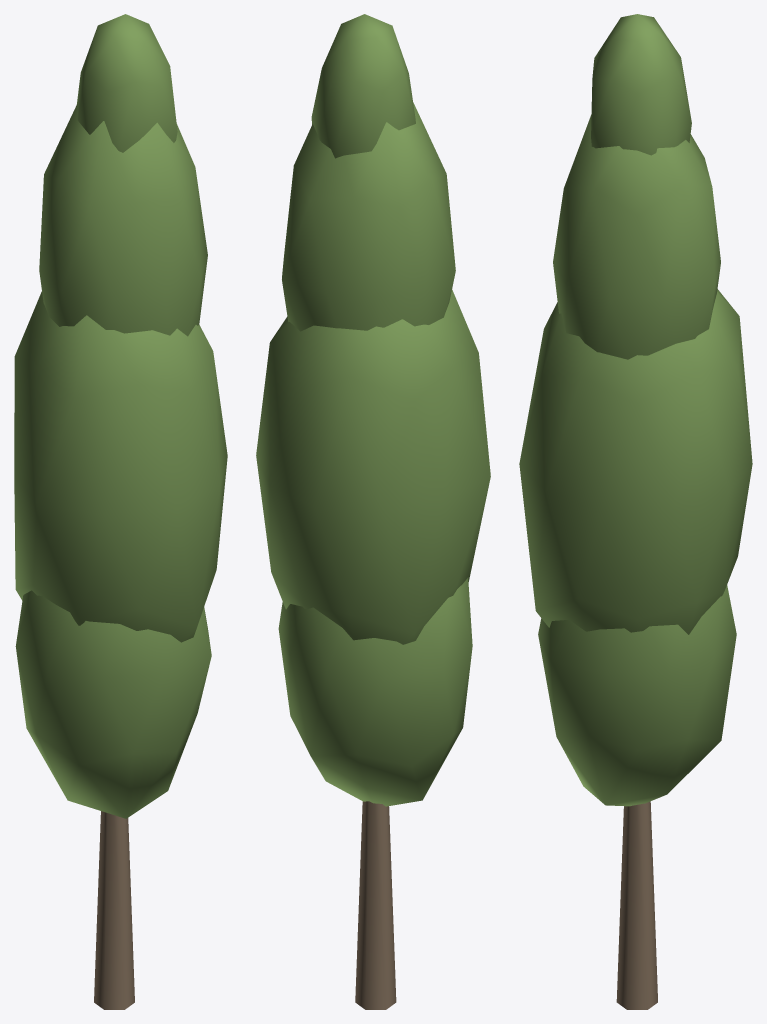
File: tree_poplar.glb
3 views of the same model, side by side, from view 1: azimuth 30°, elevation 25°; view 2: azimuth 150°, elevation 25°; view 3: azimuth 270°, elevation 25° (orthographic).
Visible parts, largest first — view 1: tree_poplar; view 2: tree_poplar; view 3: tree_poplar.
Boxes of the visible parts, bbox=[...] form: tree_poplar: bbox=[14, 14, 227, 1009]; tree_poplar: bbox=[256, 14, 490, 1009]; tree_poplar: bbox=[519, 14, 752, 1009].
Size of what is drawn, in the model's own units: 2.66 by 12.69 by 2.7.
